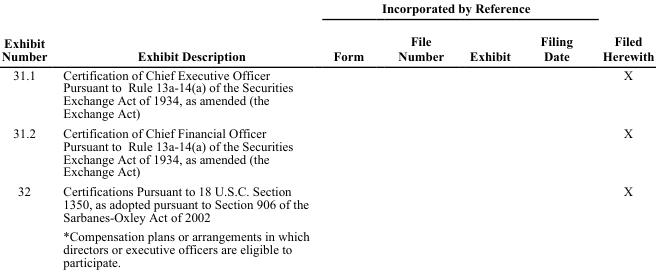table: (0, 0, 653, 268)
table column: (54, 0, 320, 268), (380, 0, 456, 268), (456, 0, 524, 268), (586, 0, 653, 268), (524, 0, 586, 268), (320, 0, 380, 268), (0, 0, 54, 268)
table column header: (0, 0, 653, 65)
table row: (0, 122, 653, 180), (0, 65, 653, 122), (0, 180, 653, 225), (0, 225, 653, 268), (0, 24, 653, 65), (0, 0, 653, 24)
table spanning cell: (54, 0, 320, 65), (320, 0, 586, 24), (0, 180, 54, 268), (586, 0, 653, 65), (0, 0, 54, 65)
